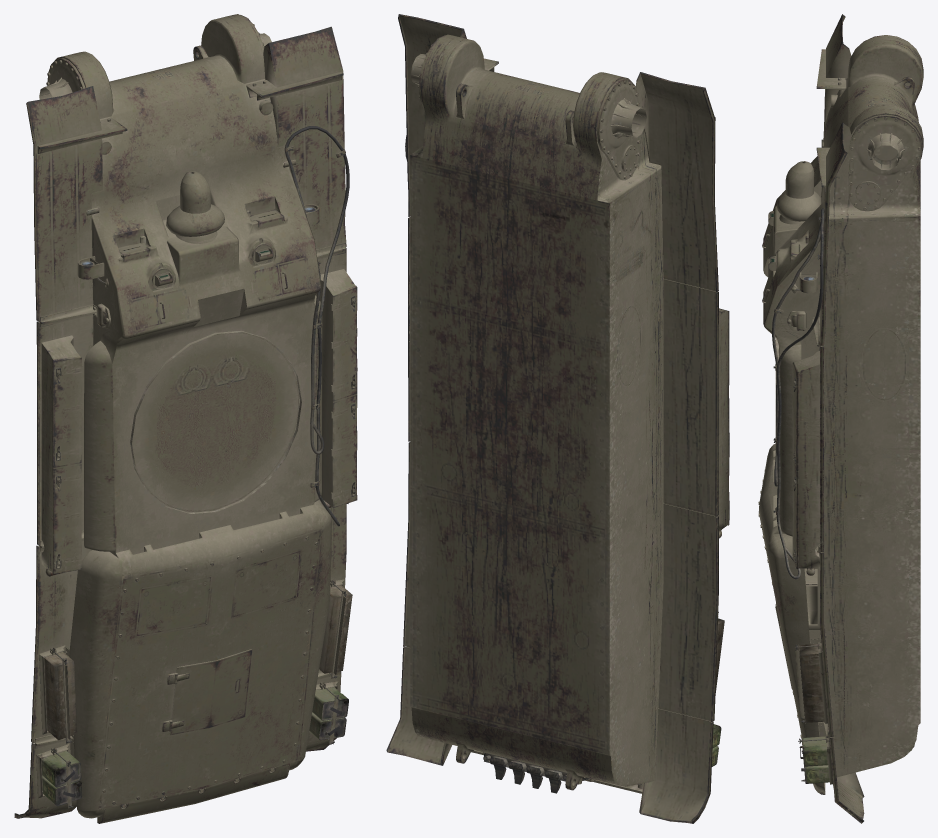
The model's file is Hull.glb.
3 views of the same model, side by side, from view 1: azimuth 30°, elevation 25°; view 2: azimuth 150°, elevation 25°; view 3: azimuth 270°, elevation 25° (orthographic). The views are drawn at different scales.
Parts seen in each view (by area): view 1: set_0_group_0; view 2: set_0_group_0; view 3: set_0_group_0.
Part boxes in pixels (x1,y1,x2,y2): set_0_group_0: (14,14,357,823); set_0_group_0: (386,14,729,823); set_0_group_0: (758,14,923,823).
Size of the model in its own units: 2.8 by 6.33 by 1.39.
Materials: 1 (1 with a texture image).
